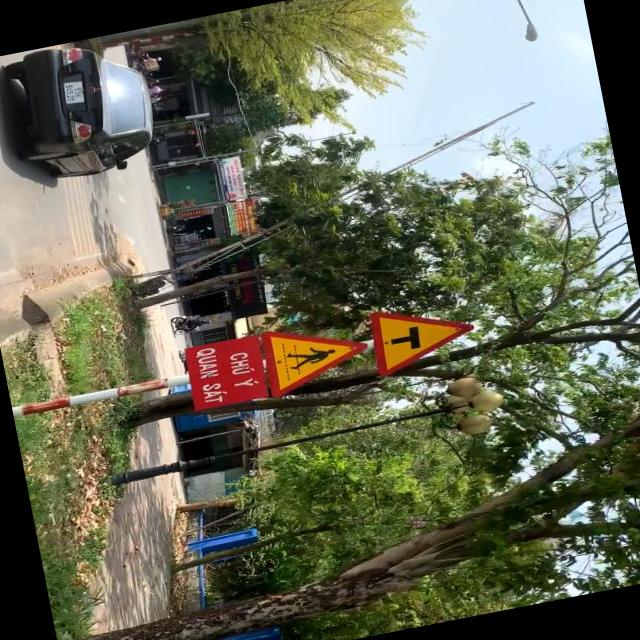W-205d: (366, 294, 481, 376)
W-224: (258, 313, 374, 398)
